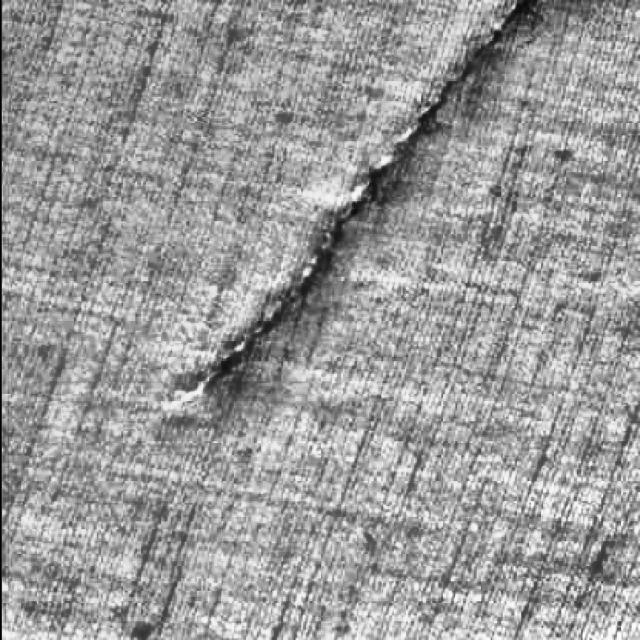objects: (154, 0, 541, 432)
